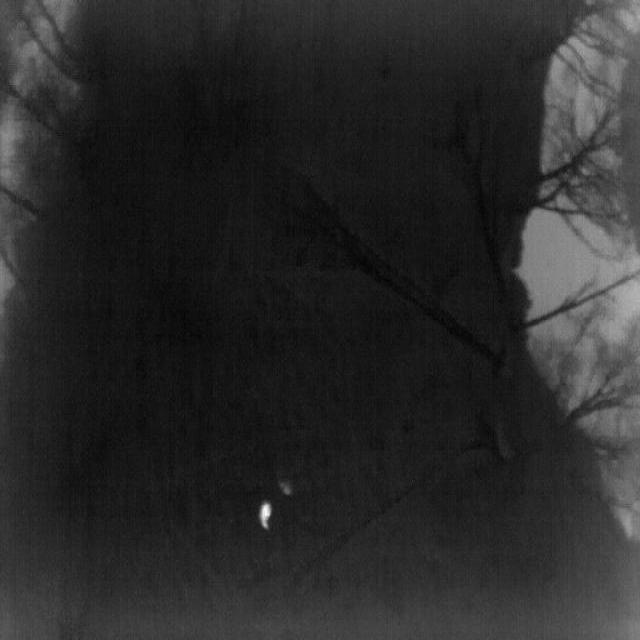deer: (259, 500, 273, 530), (278, 480, 291, 495)
